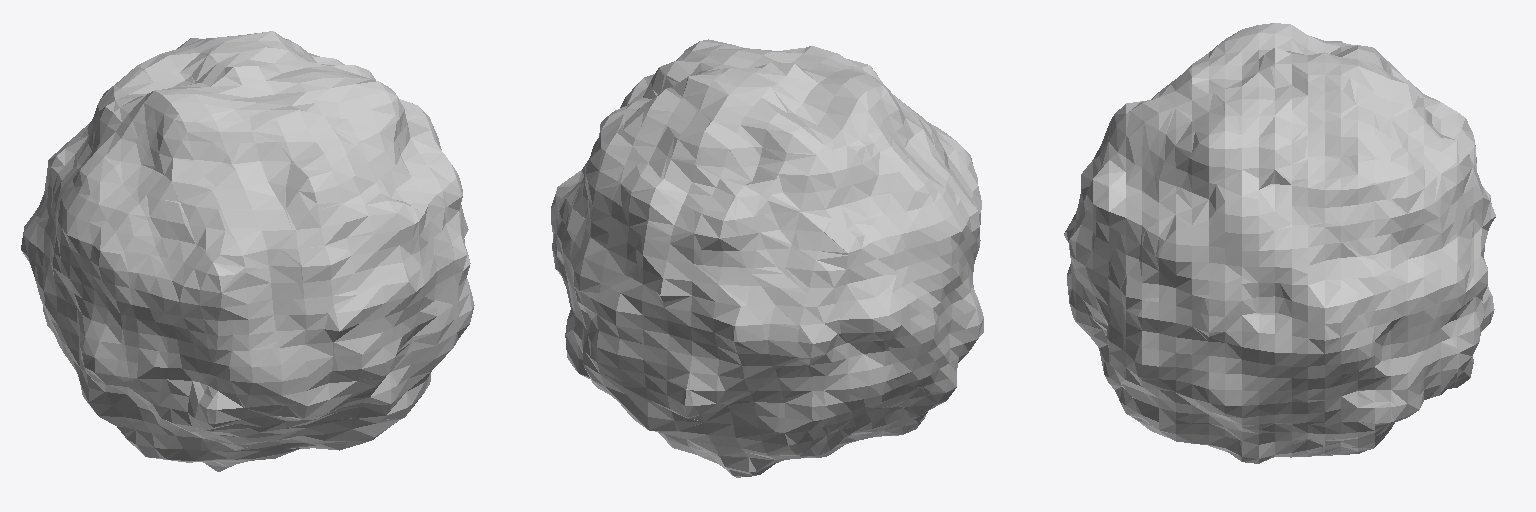
The model's file is rock2_2.obj.
3 renders of one model, left to right at view 1: azimuth 30°, elevation 25°; view 2: azimuth 150°, elevation 25°; view 3: azimuth 270°, elevation 25°, orthographic.
Visible parts, largest first — view 1: rock2; view 2: rock2; view 3: rock2.
Part boxes in pixels (left/top/right/bottom): rock2: left=21, top=31, right=474, bottom=471; rock2: left=551, top=39, right=983, bottom=477; rock2: left=1064, top=23, right=1495, bottom=463.
Size of the model in its own units: 2.78 by 2.71 by 2.7.